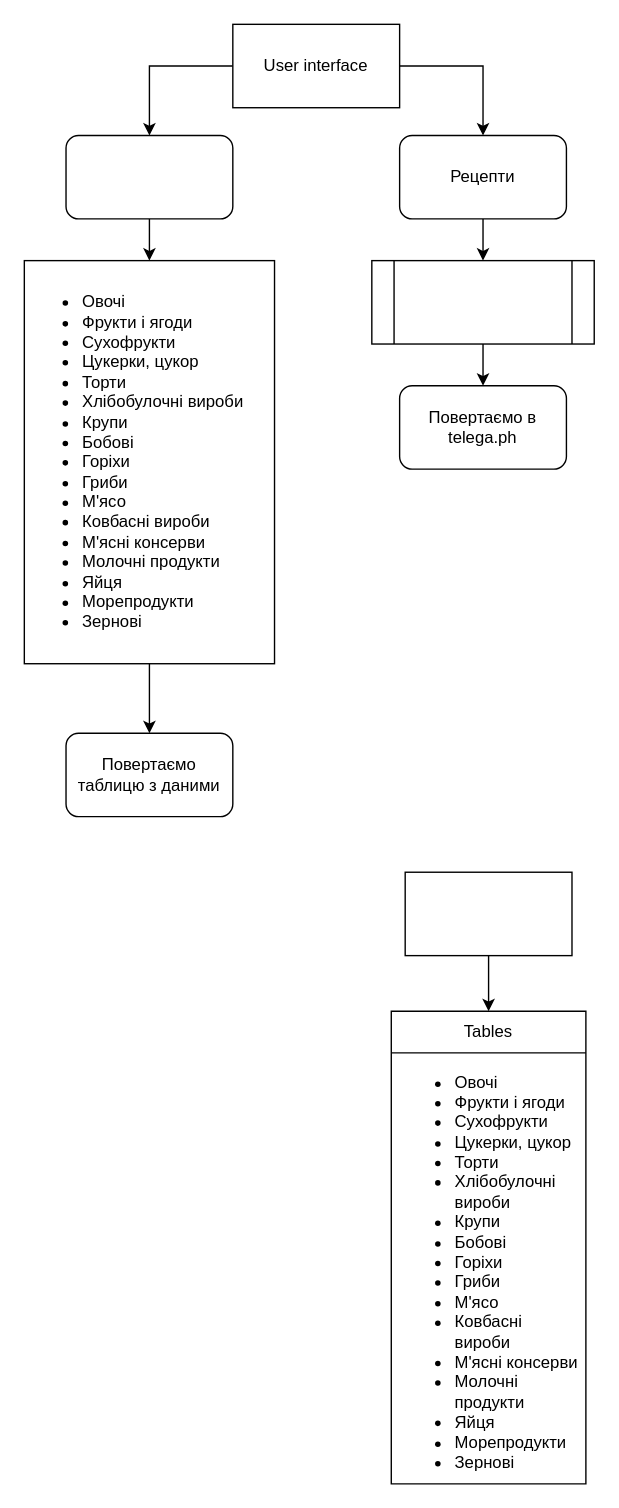
Some shapes in this 619 by 1508 pixel diagram are drawn without their labels. Here are the shapes that lost their labels. From the top down, the centre of each, then its label:
the point at 149,176: Категорії продуктів
the point at 482,301: Йдемо на сайт https://shuba.life
the point at 488,913: Database
